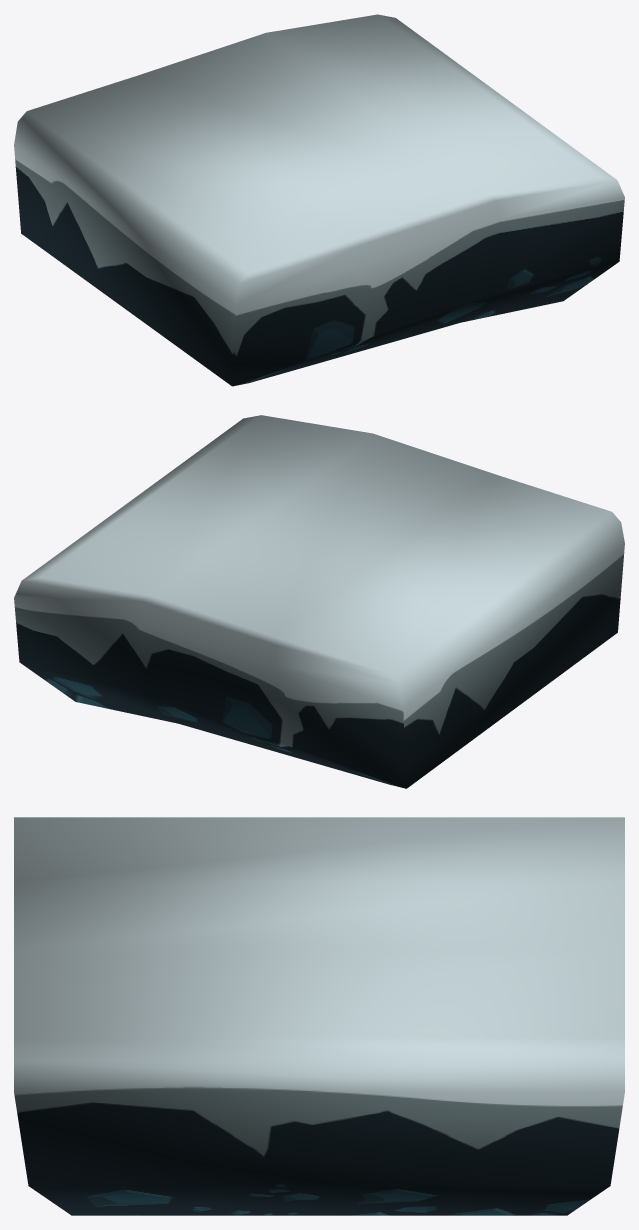
The model's file is Plataforma flutuante 2.fbx.
3 renders of one model, top to bottom at view 1: azimuth 30°, elevation 25°; view 2: azimuth 150°, elevation 25°; view 3: azimuth 270°, elevation 25°, orthographic. The views are drawn at different scales.
Visible parts, largest first — view 1: plataforma_menor.001; view 2: plataforma_menor.001; view 3: plataforma_menor.001.
Part boxes in pixels (<box>): plataforma_menor.001: <box>14,14,624,386</box>; plataforma_menor.001: <box>14,415,624,788</box>; plataforma_menor.001: <box>14,817,624,1215</box>.
Size of the model in its own units: 912 by 339 by 900.
